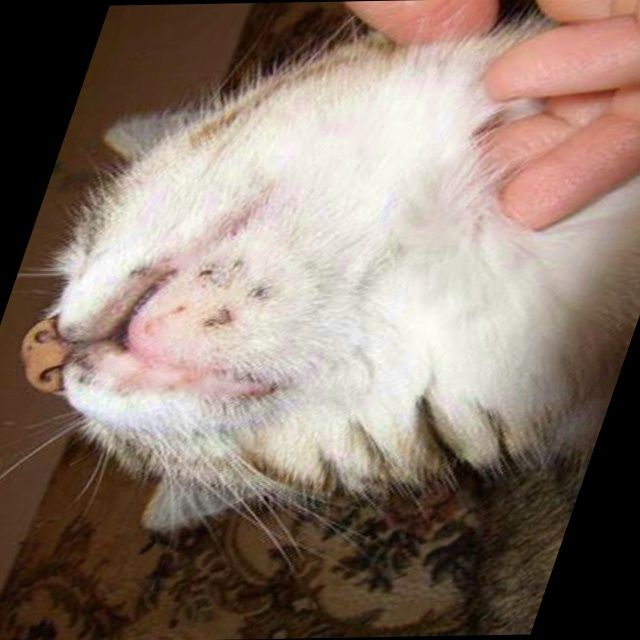acne: (182, 249, 288, 330)
